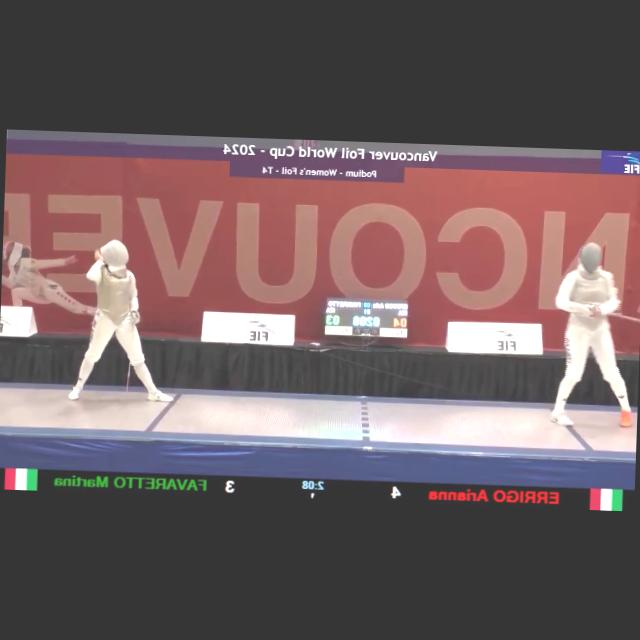blade: (122, 312, 139, 394)
